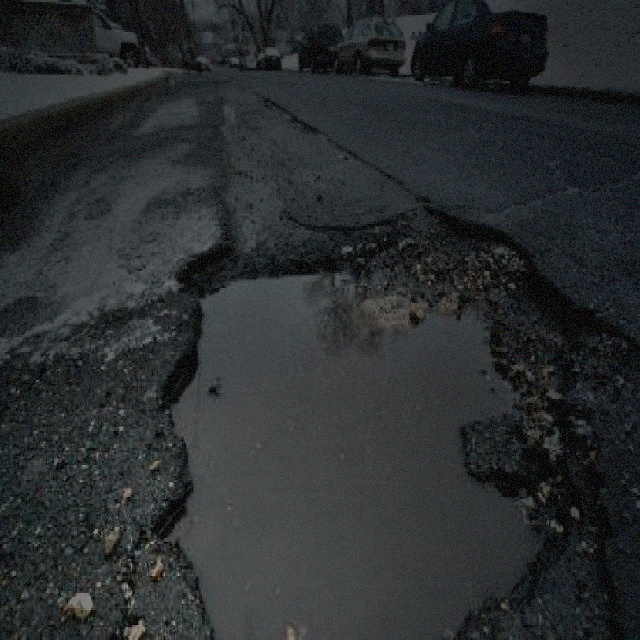pothole: (146, 198, 624, 638)
